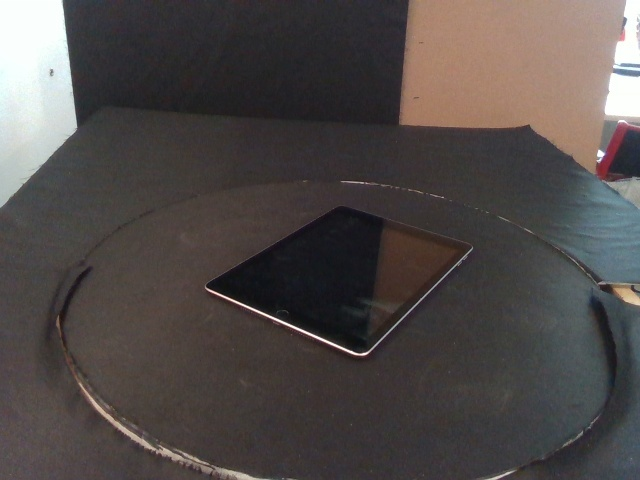laptop: (204, 205, 475, 361)
